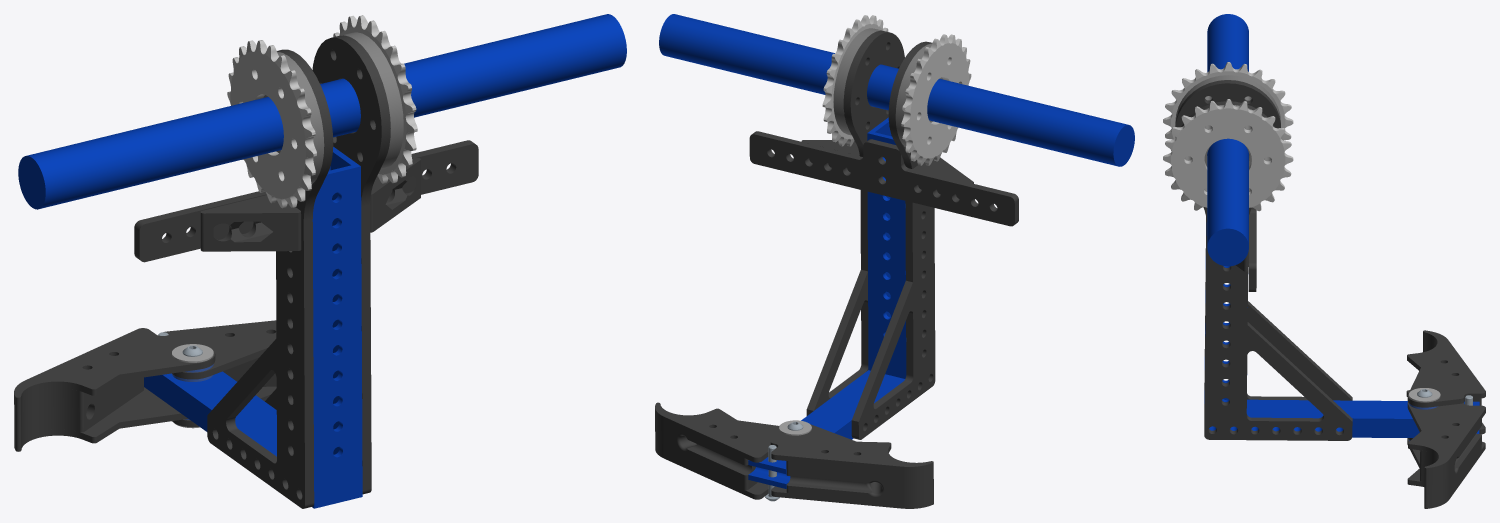
The picture shows the model from 3 angles, left to right: view 1: azimuth 30°, elevation 25°; view 2: azimuth 150°, elevation 25°; view 3: azimuth 270°, elevation 25°; orthographic projection. The views are drawn at different scales.
Visible parts, largest first — view 1: Dead Axle, Support Plate (×2), Tube 1"x1"x6", Grapple Plate (×3), 24T 35 Chain Bearing Bore Sprocket (am-0217) (×2), Reaction Bar Support (×2), Reaction Bar, Grapple Arm, Grapple Block, Sprocket Spacer (×2); view 2: Dead Axle, Support Plate (×2), Reaction Bar, Grapple Plate (×4), Grapple Block (×2), 24T 35 Chain Bearing Bore Sprocket (am-0217) (×2), Tube 1"x1"x6", Grapple Arm, Sprocket Spacer (×2), Reaction Bar Support; view 3: Support Plate (×2), 24T 35 Chain Bearing Bore Sprocket (am-0217) (×2), Grapple Plate (×3), Dead Axle, Grapple Arm, Grapple Block, Reaction Bar, Sprocket Spacer.
Part boxes in pixels (<box>): Dead Axle: <box>18,14,626,209</box>; Support Plate (×2): <box>207,35,390,508</box>; Tube 1"x1"x6": <box>312,147,362,483</box>; Grapple Plate (×3): <box>14,320,276,451</box>; 24T 35 Chain Bearing Bore Sprocket (am-0217) (×2): <box>227,15,417,208</box>; Reaction Bar Support (×2): <box>200,158,420,251</box>; Reaction Bar: <box>134,140,478,262</box>; Grapple Arm: <box>144,371,362,508</box>; Grapple Block: <box>14,377,143,445</box>; Sprocket Spacer (×2): <box>263,32,403,184</box>; Dead Axle: <box>659,14,1134,166</box>; Support Plate (×2): <box>806,30,935,439</box>; Reaction Bar: <box>749,131,1018,226</box>; Grapple Plate (×4): <box>655,402,933,508</box>; Grapple Block (×2): <box>655,413,933,503</box>; 24T 35 Chain Bearing Bore Sprocket (am-0217) (×2): <box>822,15,971,165</box>; Tube 1"x1"x6": <box>867,117,906,378</box>; Grapple Arm: <box>748,370,904,488</box>; Sprocket Spacer (×2): <box>833,28,943,147</box>; Reaction Bar Support: <box>913,157,973,198</box>; Support Plate (×2): <box>1175,80,1352,440</box>; 24T 35 Chain Bearing Bore Sprocket (am-0217) (×2): <box>1163,62,1293,211</box>; Grapple Plate (×3): <box>1407,330,1485,508</box>; Dead Axle: <box>1207,14,1248,266</box>; Grapple Arm: <box>1209,399,1479,437</box>; Grapple Block: <box>1420,419,1481,504</box>; Reaction Bar: <box>1248,207,1256,291</box>; Sprocket Spacer: <box>1175,75,1280,124</box>.
Bounding box in the file's own units: 0.3048 × 0.2434 × 0.1938.
